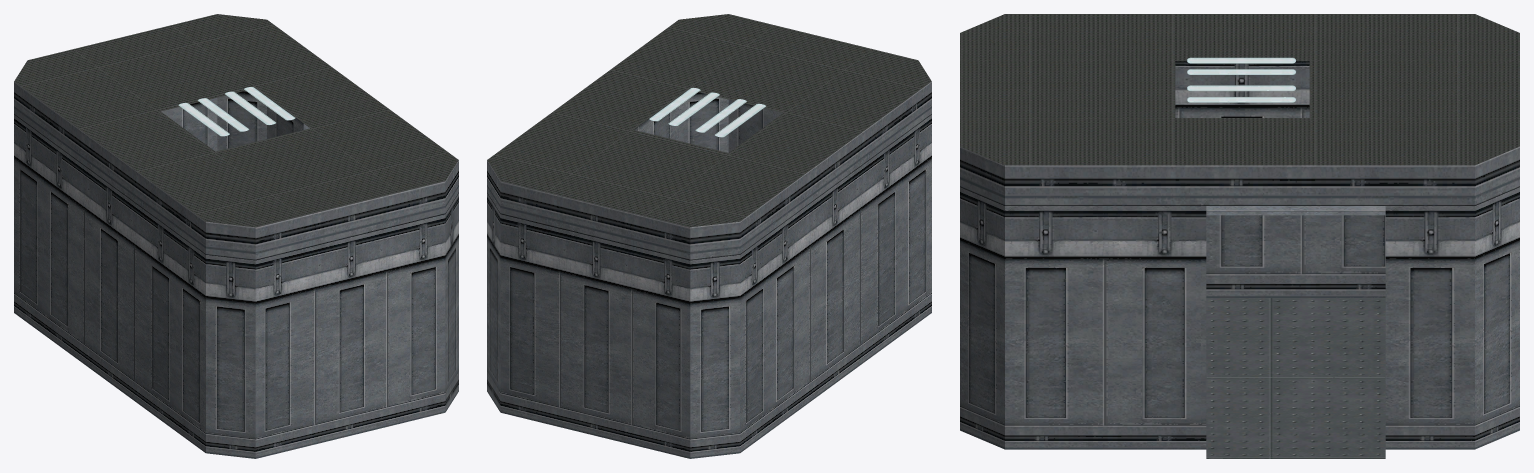
The model's file is mun_all_military_storage_shed_impl_s01_r6_room3_mesh_room3.fbx.
3 renders of one model, left to right at view 1: azimuth 30°, elevation 25°; view 2: azimuth 150°, elevation 25°; view 3: azimuth 270°, elevation 25°, orthographic. The views are drawn at different scales.
Parts seen in each view (by area): view 1: mesh_node; view 2: mesh_node; view 3: mesh_node.
Boxes of the visible parts, x1,y1,x2,y2 form: mesh_node: (14, 14, 458, 458); mesh_node: (487, 14, 931, 458); mesh_node: (960, 14, 1519, 458).
Size of the model in its own units: 4.25 by 3.63 by 6.25.
